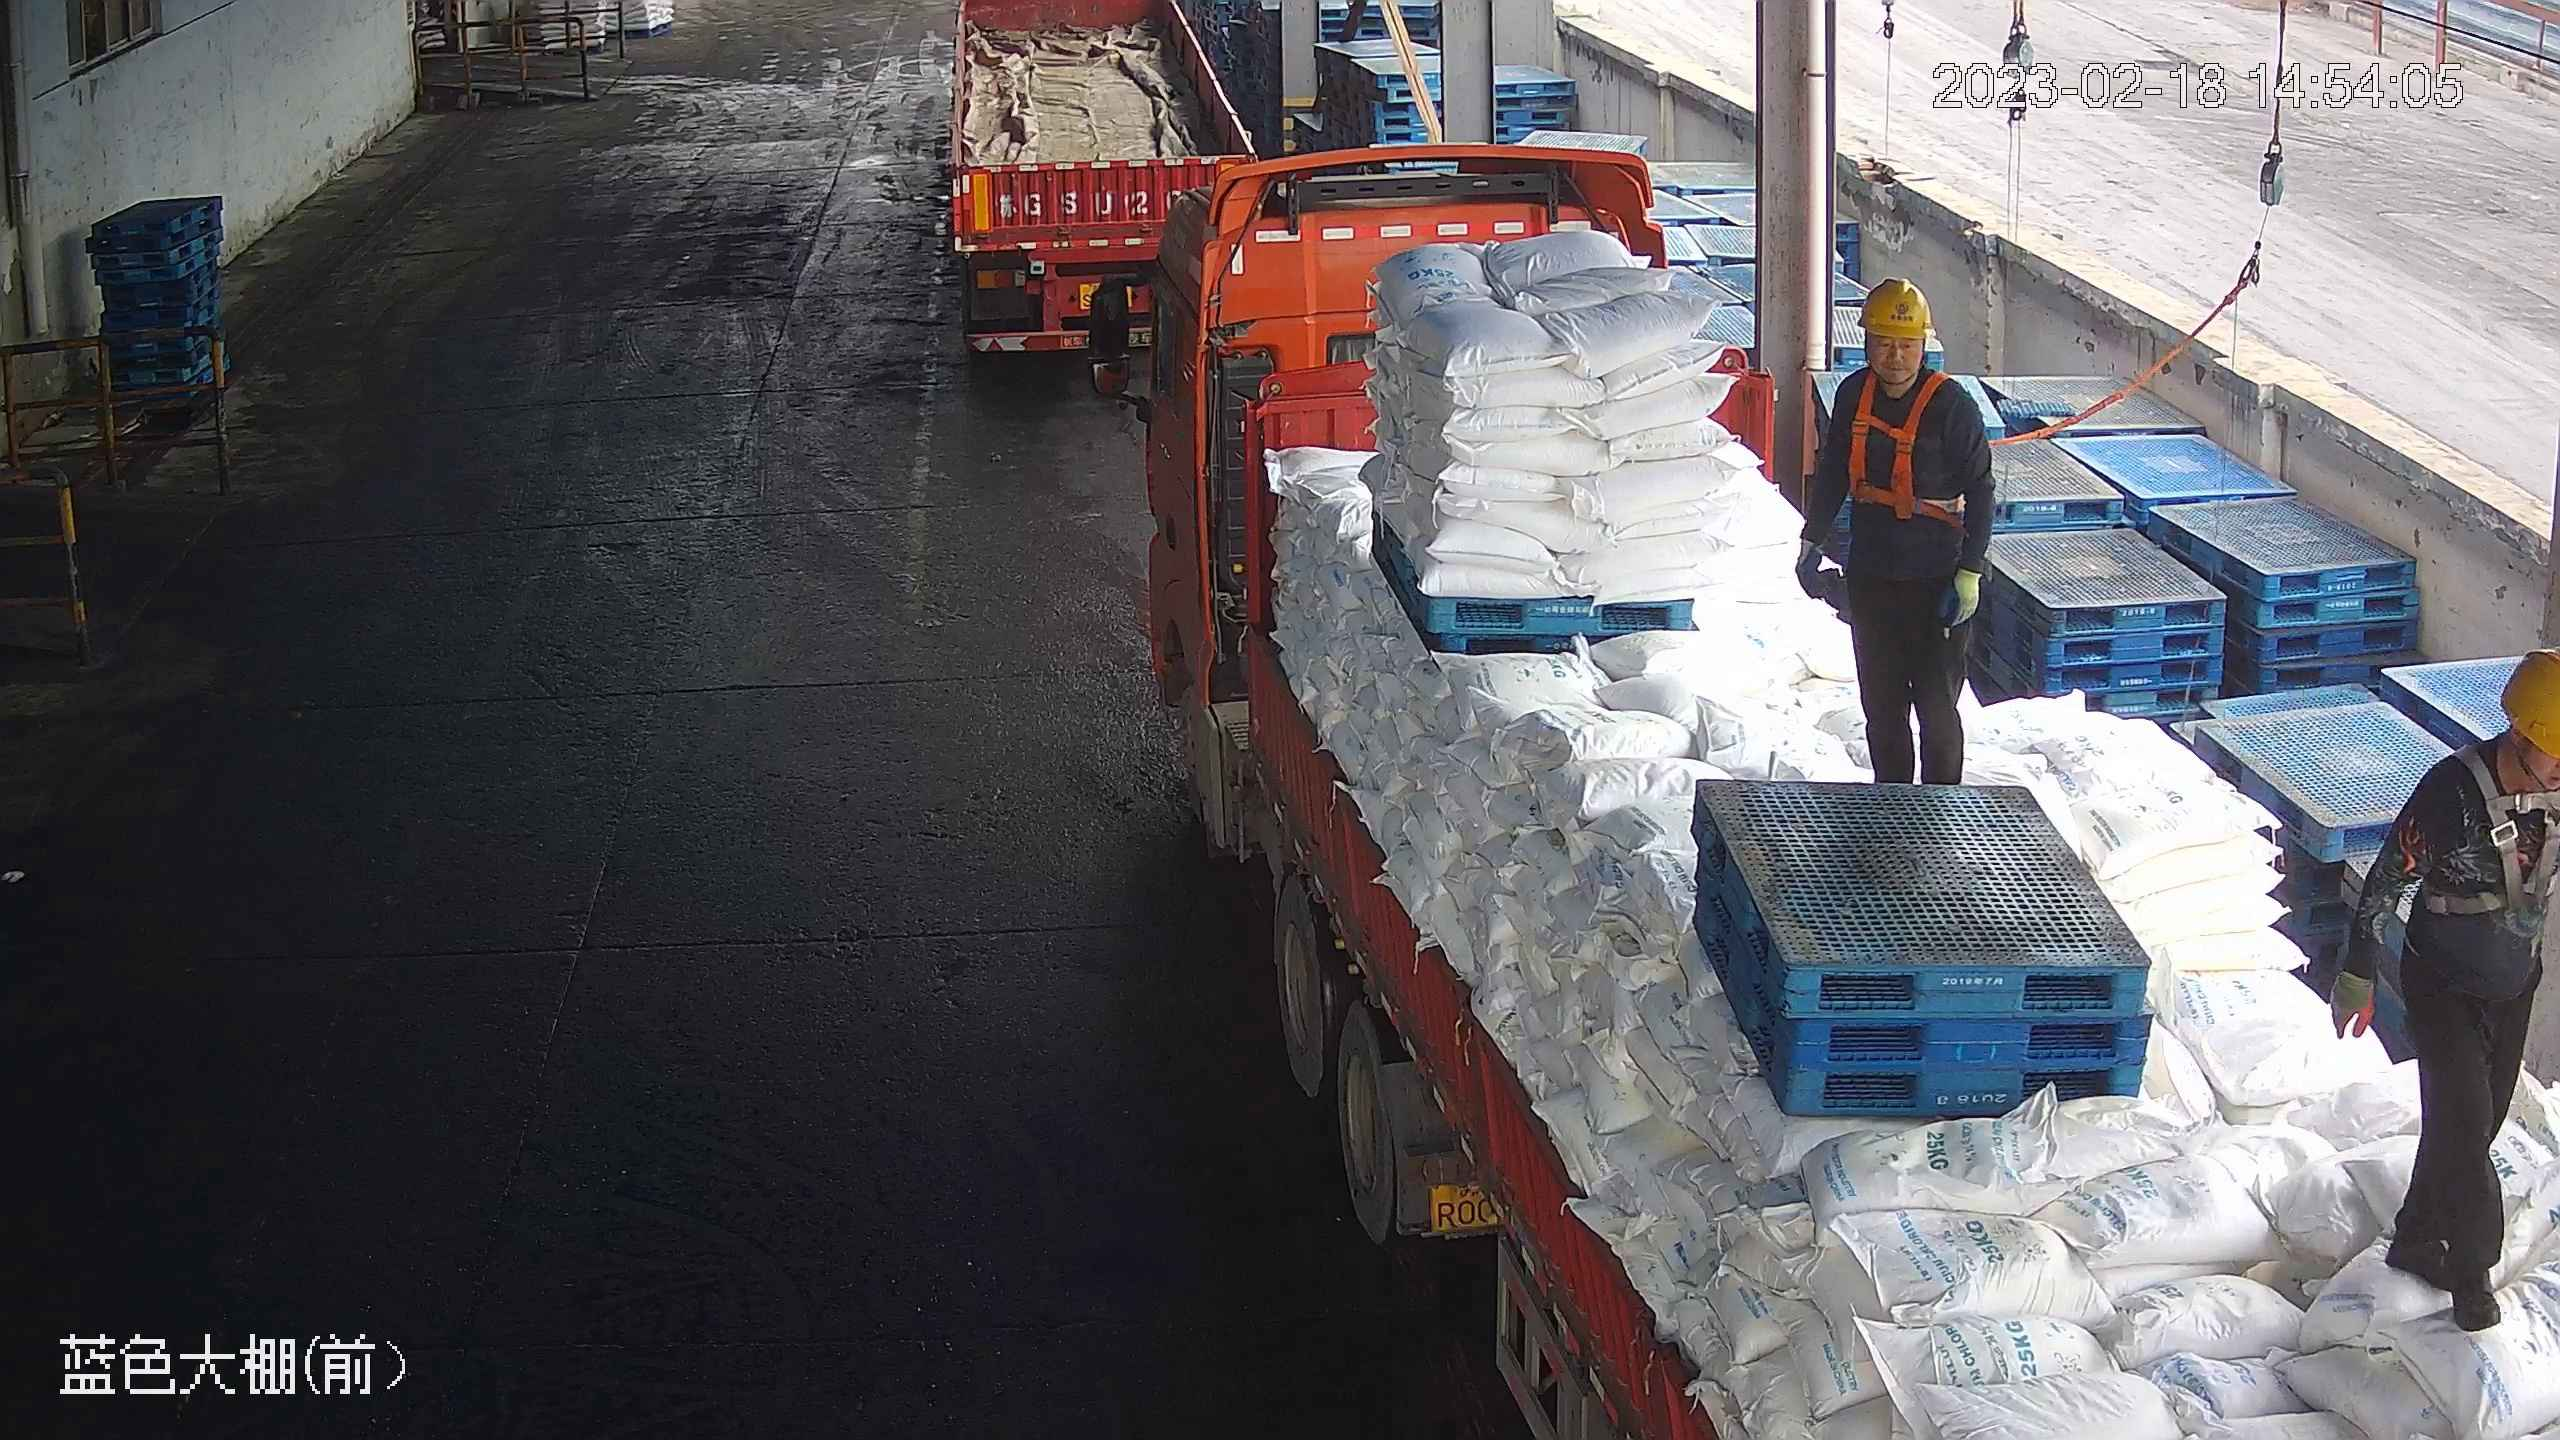belt: (2435, 754, 2559, 903), (1845, 366, 1968, 515)
head: (2405, 647, 2560, 846), (1823, 274, 1990, 441)
helmet: (2490, 645, 2560, 759), (1860, 273, 1933, 338)
people: (2342, 648, 2560, 1335), (1807, 274, 1999, 784)
truck: (1137, 152, 2549, 1440), (925, 1, 1269, 367)
